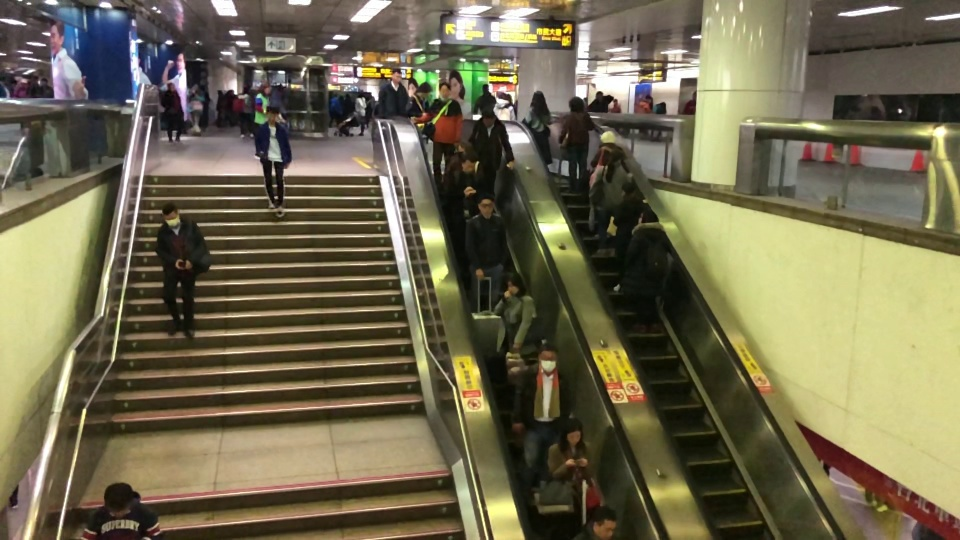person_head: (101, 482, 134, 519), (587, 503, 617, 539), (537, 343, 559, 373), (562, 417, 583, 446), (503, 271, 526, 297), (161, 201, 180, 227), (477, 192, 495, 219), (456, 137, 478, 159), (460, 150, 478, 173), (480, 106, 497, 128), (637, 208, 658, 225), (264, 104, 280, 125), (598, 129, 615, 148), (608, 147, 625, 165), (529, 90, 545, 109), (568, 95, 584, 113), (619, 181, 635, 198), (416, 82, 432, 98), (438, 81, 451, 98), (496, 92, 512, 104), (260, 82, 272, 97), (391, 68, 402, 83), (275, 83, 286, 95), (166, 82, 175, 92), (481, 83, 489, 94), (644, 94, 652, 105), (242, 86, 250, 96), (595, 91, 603, 101), (39, 77, 48, 85), (226, 88, 234, 97), (357, 89, 365, 98), (658, 101, 666, 110), (10, 78, 17, 88), (31, 76, 39, 84), (191, 82, 199, 90), (24, 76, 31, 84), (691, 90, 696, 101), (216, 89, 223, 96), (344, 94, 351, 101), (613, 98, 618, 106), (366, 92, 372, 98), (332, 92, 337, 98)
person_vbox: (508, 343, 572, 471), (154, 201, 207, 339), (439, 150, 495, 276), (619, 208, 673, 338), (410, 81, 464, 191), (462, 192, 508, 312), (557, 95, 605, 194), (80, 482, 161, 540), (590, 147, 632, 258), (466, 106, 515, 200), (253, 104, 293, 219), (611, 181, 648, 292), (492, 271, 538, 354), (545, 417, 592, 485), (521, 90, 553, 166), (403, 82, 432, 143), (443, 137, 484, 180), (571, 503, 618, 540), (251, 82, 273, 161), (377, 68, 410, 119), (159, 81, 184, 144), (590, 129, 623, 171), (11, 76, 31, 132), (237, 85, 254, 140), (188, 82, 205, 136), (473, 83, 496, 116), (635, 94, 652, 136), (492, 91, 515, 120), (354, 88, 367, 137), (650, 101, 666, 137), (587, 91, 613, 112), (328, 92, 342, 128), (270, 83, 286, 114), (223, 88, 234, 128), (35, 77, 53, 98), (681, 90, 696, 115), (341, 94, 354, 120), (215, 88, 223, 128), (365, 92, 373, 129), (27, 76, 40, 98), (608, 98, 622, 113), (6, 78, 17, 97)
